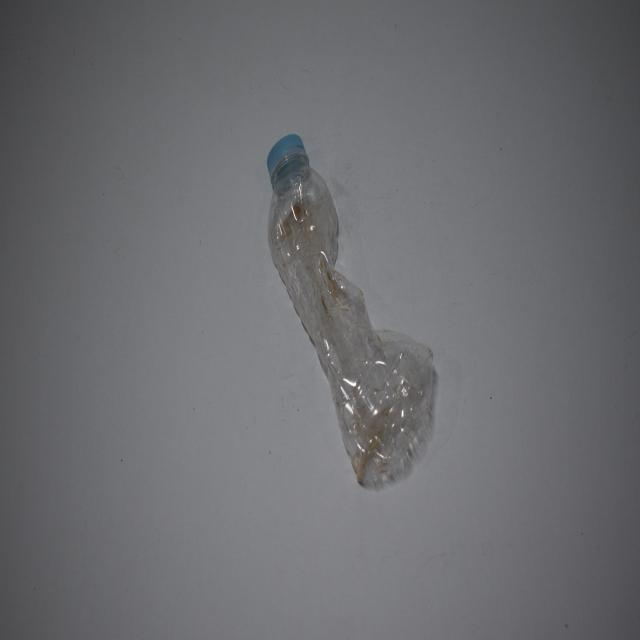empty: (268, 136, 436, 486)
